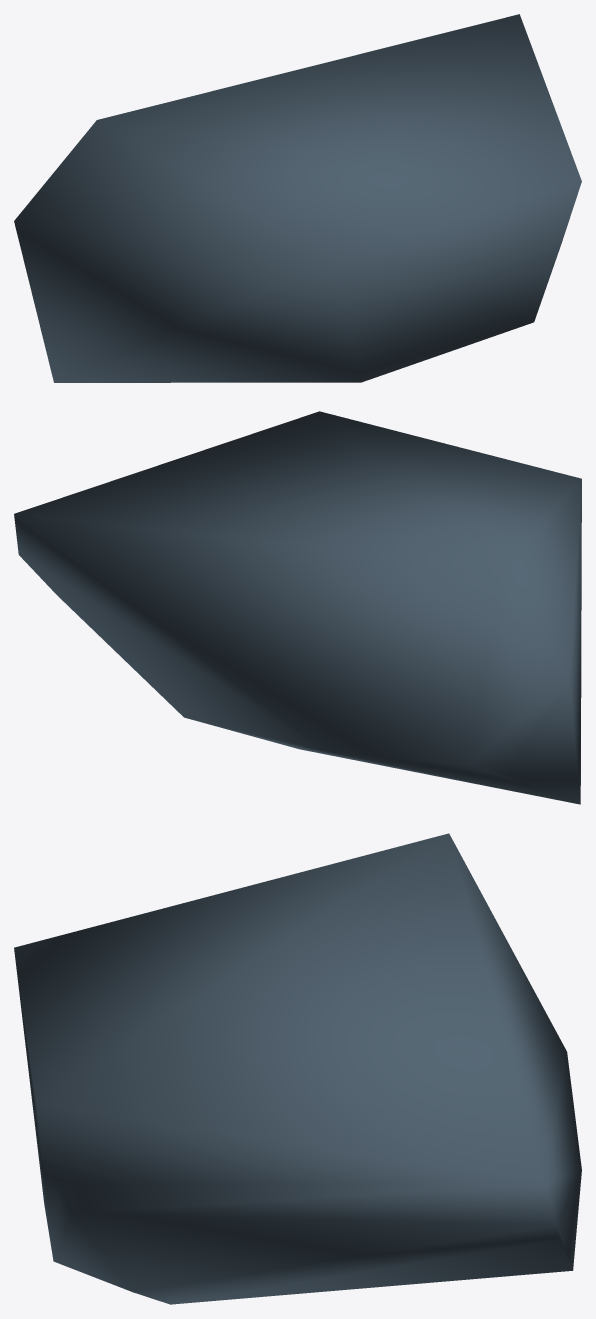
The model's file is eholovec-meshok.glb.
3 views of the same model, one above another, from view 1: azimuth 30°, elevation 25°; view 2: azimuth 150°, elevation 25°; view 3: azimuth 270°, elevation 25° (orthographic). The views are drawn at different scales.
Visible parts, largest first — view 1: eholovec-meshok; view 2: eholovec-meshok; view 3: eholovec-meshok.
Part boxes in pixels (<box>): eholovec-meshok: <box>14,14,581,382</box>; eholovec-meshok: <box>14,411,581,804</box>; eholovec-meshok: <box>14,833,581,1304</box>.
Size of the model in its own units: 0.6612 by 0.2793 by 0.4449.
1 material, 1 textured.
